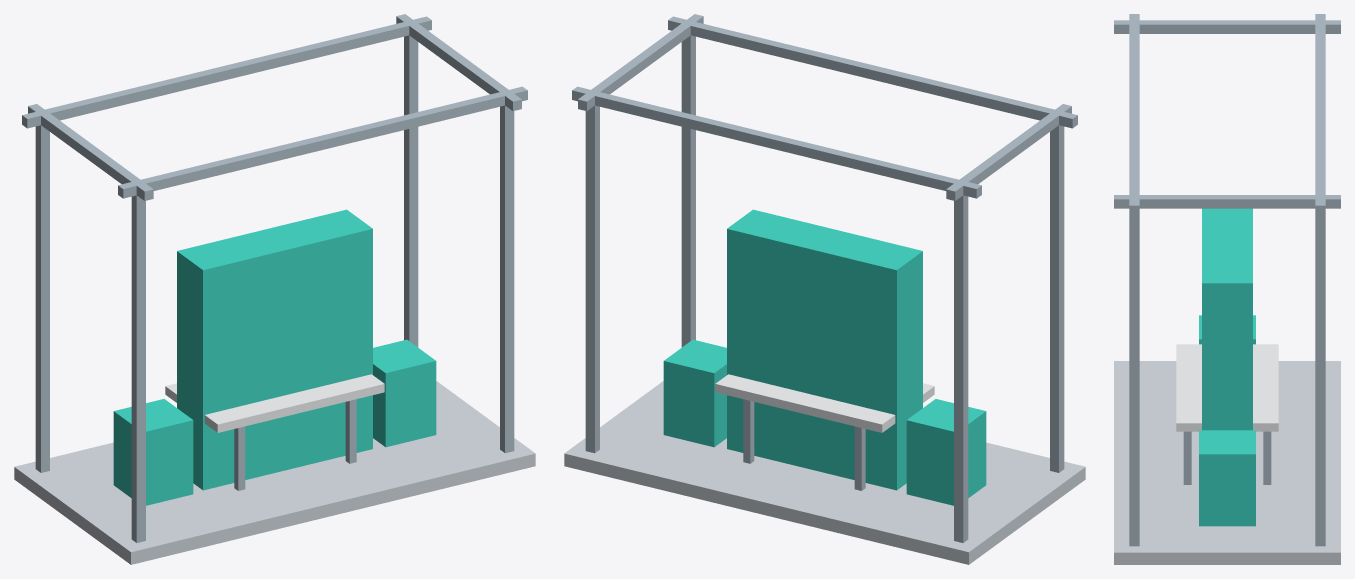
3 views of the same model, side by side, from view 1: azimuth 30°, elevation 25°; view 2: azimuth 150°, elevation 25°; view 3: azimuth 270°, elevation 25° (orthographic). The views are drawn at different scales.
Visible parts, largest first — view 1: Exhibition Booth Concept; view 2: Exhibition Booth Concept; view 3: Exhibition Booth Concept.
Boxes of the visible parts, left/top/right/bottom form: Exhibition Booth Concept: left=14, top=14, right=535, bottom=564; Exhibition Booth Concept: left=564, top=14, right=1085, bottom=564; Exhibition Booth Concept: left=1114, top=14, right=1340, bottom=564.
Bounding box in the file's own units: 4 × 3.49 × 2.
